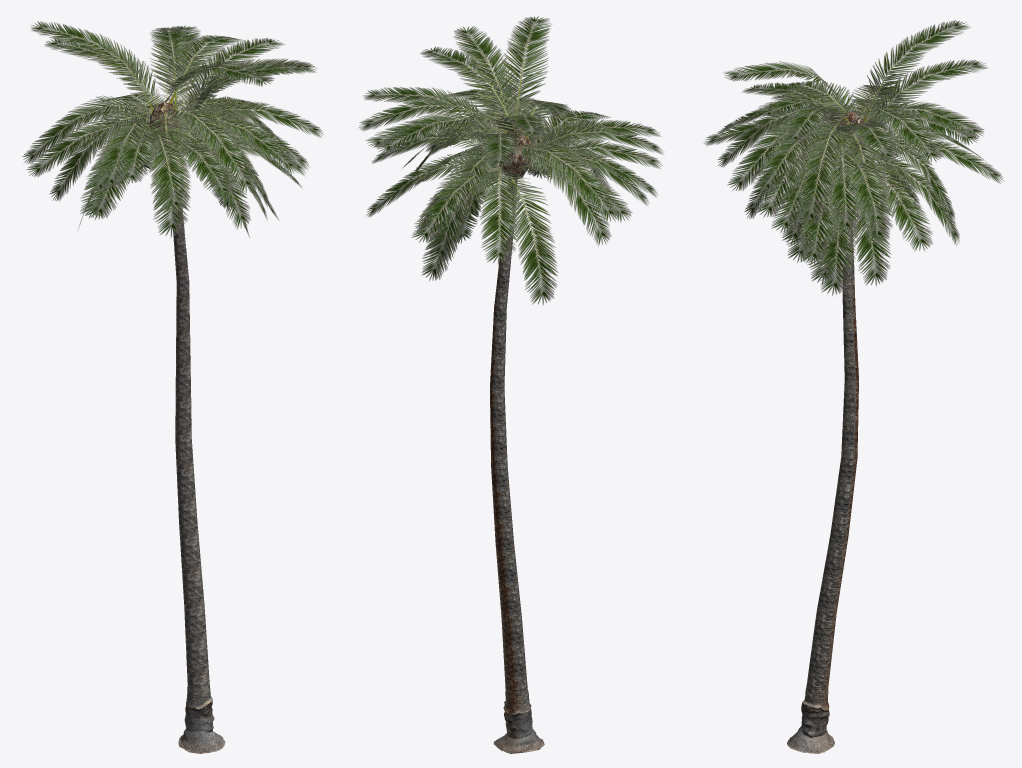
Rendered from palm_tree_palmlow_terrain3d.glb.
3 views of the same model, side by side, from view 1: azimuth 30°, elevation 25°; view 2: azimuth 150°, elevation 25°; view 3: azimuth 270°, elevation 25° (orthographic).
Visible parts, largest first — view 1: PALMLOW_Terrain3D; view 2: PALMLOW_Terrain3D; view 3: PALMLOW_Terrain3D.
Part boxes in pixels (<box>): PALMLOW_Terrain3D: <box>22,21,323,753</box>; PALMLOW_Terrain3D: <box>358,16,664,753</box>; PALMLOW_Terrain3D: <box>703,20,1003,753</box>.
Size of the model in its own units: 3.96 by 9.67 by 3.97.
3 materials, 3 textured.
